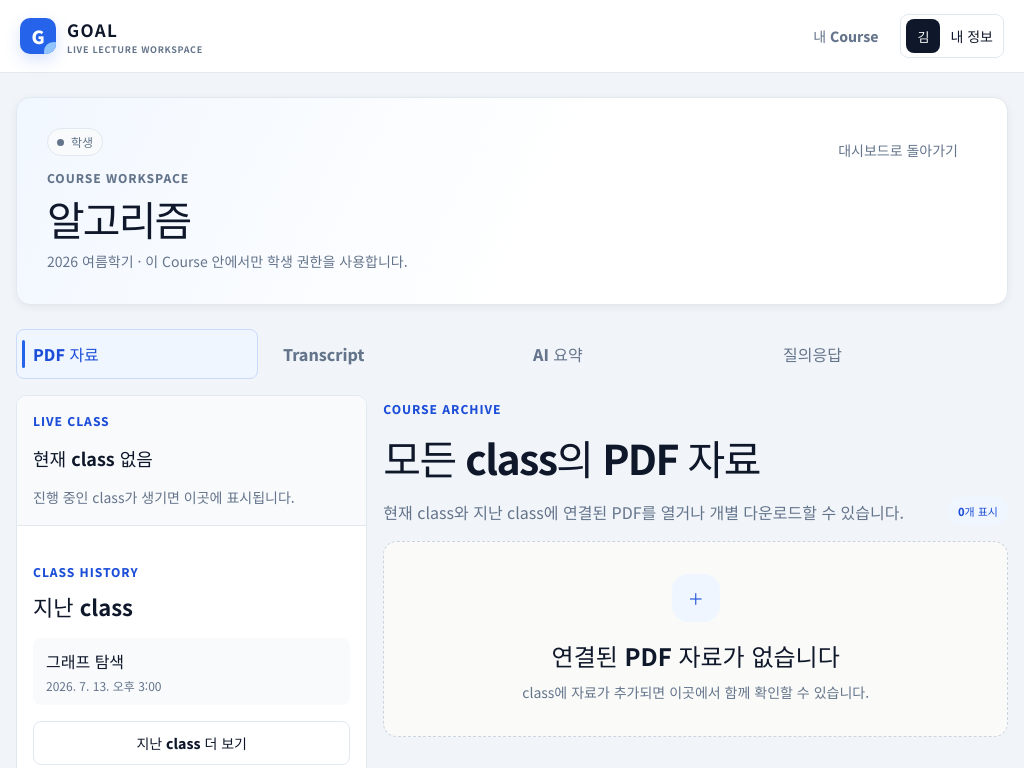
Test case: Course workspace shell › loads completed classes by cursor and preserves the first page
Expected: the text "그래프 탐색" is shown, x1=46 y1=649 x2=124 y2=673
Step 1. Click the button "지난 class 더 보기" → (192, 743), box x1=33 y1=721 x2=350 y2=765
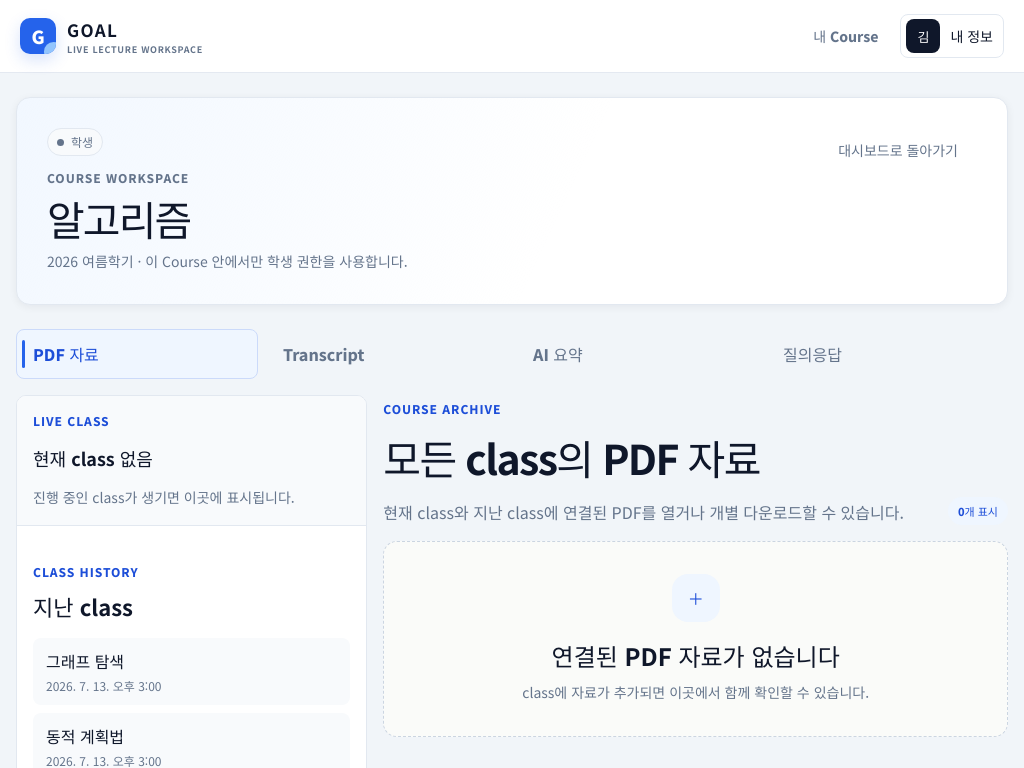
Expected: the text "그래프 탐색" is shown, x1=46 y1=649 x2=124 y2=673
Expected: the text "동적 계획법" is shown, x1=46 y1=724 x2=124 y2=748
